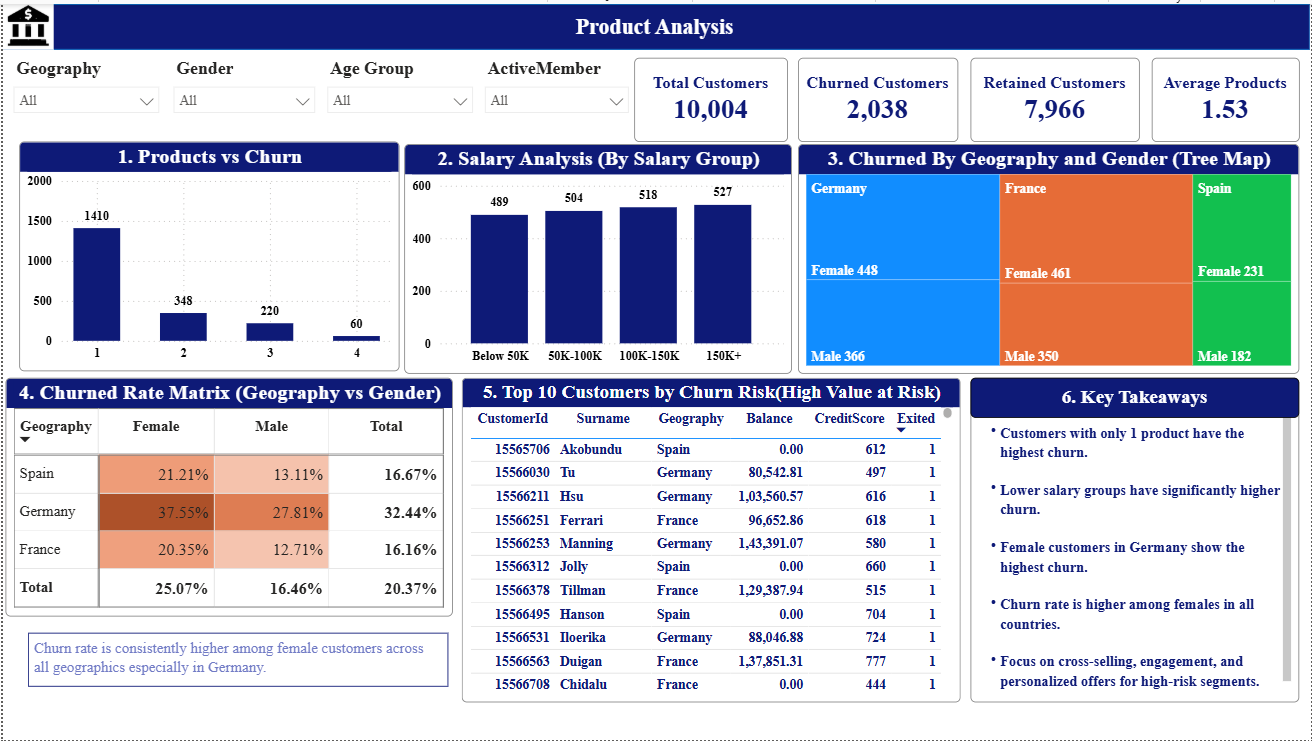

This screenshot's page, from the dashboard's own definition file:
{"tool":"powerbi","page":{"name":"Product Analysis","canvas":[1280,720],"ordinal":2},"visuals":[{"type":"shape","box":[0,0,1279.5,44.9],"z":0},{"type":"textbox","box":[946.5,365.4,321.6,317.9],"z":0,"group":"g1"},{"type":"image","box":[0,0,50,44.9],"z":1000},{"type":"textbox","box":[946.5,365.4,321.6,39.1],"z":1000,"group":"g1"},{"type":"slicer","fields":{"Values":["Info.Customer_Info.Geography"]},"box":[0,48.7,162.8,61.5],"z":2000},{"type":"slicer","fields":{"Values":["Info.Customer_Info.Gender"]},"box":[156.5,48.9,159,64.8],"z":3000},{"type":"slicer","fields":{"Values":["Info.Age Group"]},"box":[306.4,48.7,162.8,61.5],"z":4000},{"type":"slicer","fields":{"Values":["Info.IsActiveMember"]},"box":[461,48.9,161.4,61.1],"z":5000},{"type":"cardVisual","fields":{"Data":["Measures (2).total customers"]},"box":[617.9,52.6,150,82.1],"z":6000},{"type":"cardVisual","fields":{"Data":["Measures (2).Churned Customers"]},"box":[778.2,52.6,156.4,82.1],"z":7000},{"type":"cardVisual","fields":{"Data":["Measures (2).Retained Customers"]},"box":[946.2,52.6,165.4,82.1],"z":8000},{"type":"cardVisual","fields":{"Data":["Measures (2).Average Products"]},"box":[1124.4,52.6,144.9,82.1],"z":9000},{"type":"clusteredColumnChart","title":"1. Products vs Churn","fields":{"Category":["Info.NumOfProducts"],"Y":["Measures (2).Churn_Customers"]},"box":[15.9,134.5,371.7,225],"z":10000},{"type":"clusteredColumnChart","title":"2. Salary Analysis (By Salary Group)","fields":{"Category":["Info.Salary Group"],"Y":["Measures (2).Churned Customers"]},"box":[392.5,137,379.1,225],"z":11000},{"type":"treemap","title":"3. Churned By Geography and Gender (Tree Map)","fields":{"Group":["Info.Geography"],"Details":["Info.Gender"],"Values":["Measures (2).Churned Customers"]},"box":[777.7,137,490.4,225],"z":12000},{"type":"textbox","box":[16,389.5,372,225],"z":13000},{"type":"textbox","box":[426.6,4.9,426.8,35.5],"z":14000},{"type":"pivotTable","title":"4. Churned Rate Matrix (Geography vs Gender)","fields":{"Rows":["Info.Geography"],"Columns":["Info.Gender"],"Values":["Measures (2).Churn_Rate"]},"box":[2.4,365.6,437.8,233.6],"z":15000},{"type":"tableEx","title":"5. Top 10 Customers by Churn Risk(High Value at Risk)","fields":{"Values":["Info.CustomerId","Info.Surname","Info.Geography","Info.Balance","Info.CreditScore","Info.Exited"]},"box":[448.8,365.6,487.9,317.9],"z":16000},{"type":"group","id":"g1","title":"Group 1","box":[946.5,365.4,321.6,317.9],"z":17000},{"type":"textbox","box":[24.5,615.1,410.9,52.6],"z":18000}]}

Visuals, with their boxes in screenshot pixels (x1, y1, x2, y2), scaled from the page's 1280x720 canvas onto the 1312x741 screenshot:
shape: Rect(0, 0, 1311, 46)
textbox: Rect(970, 376, 1300, 703)
image: Rect(0, 0, 51, 46)
textbox: Rect(970, 376, 1300, 416)
slicer - Info.Customer_Info.Geography: Rect(0, 50, 167, 113)
slicer - Info.Customer_Info.Gender: Rect(160, 50, 323, 117)
slicer - Info.Age Group: Rect(314, 50, 481, 113)
slicer - Info.IsActiveMember: Rect(473, 50, 638, 113)
cardVisual - Measures (2).total customers: Rect(633, 54, 787, 139)
cardVisual - Measures (2).Churned Customers: Rect(798, 54, 958, 139)
cardVisual - Measures (2).Retained Customers: Rect(970, 54, 1139, 139)
cardVisual - Measures (2).Average Products: Rect(1153, 54, 1301, 139)
"1. Products vs Churn" clusteredColumnChart: Rect(16, 138, 397, 370)
"2. Salary Analysis (By Salary Group)" clusteredColumnChart: Rect(402, 141, 791, 373)
"3. Churned By Geography and Gender (Tree Map)" treemap: Rect(797, 141, 1300, 373)
textbox: Rect(16, 401, 398, 632)
textbox: Rect(437, 5, 875, 42)
"4. Churned Rate Matrix (Geography vs Gender)" pivotTable: Rect(2, 376, 451, 617)
"5. Top 10 Customers by Churn Risk(High Value at Risk)" tableEx: Rect(460, 376, 960, 703)
"Group 1" group: Rect(970, 376, 1300, 703)
textbox: Rect(25, 633, 446, 687)
